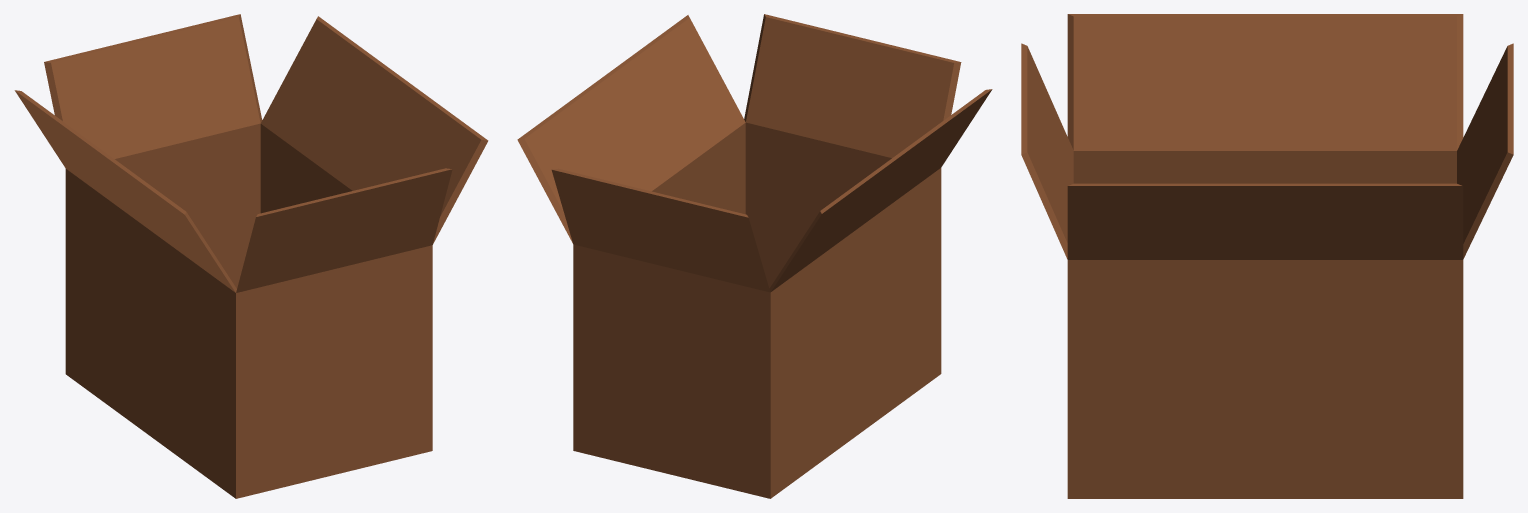
The picture shows the model from 3 angles, left to right: view 1: azimuth 30°, elevation 25°; view 2: azimuth 150°, elevation 25°; view 3: azimuth 270°, elevation 25°; orthographic projection. The views are drawn at different scales.
Parts seen in each view (by area): view 1: Mesh_Box_04; view 2: Mesh_Box_04; view 3: Mesh_Box_04.
Part boxes in pixels (box(x1,y1,x2,y2)): Mesh_Box_04: box(14, 14, 488, 498); Mesh_Box_04: box(517, 14, 992, 498); Mesh_Box_04: box(1021, 14, 1513, 498).
Size of the model in its own units: 0.5791 by 0.5405 by 0.7003.
1 material, 1 textured.
